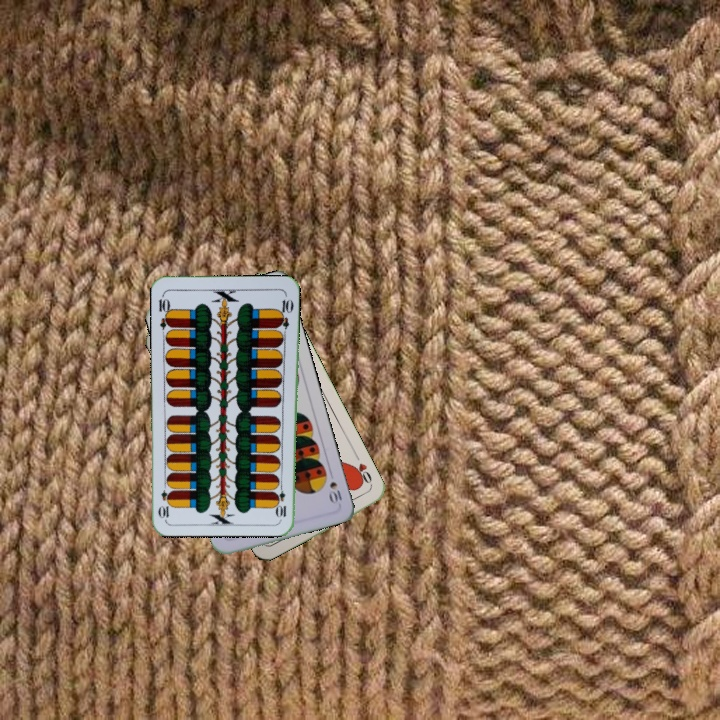E10: (155, 291, 174, 331), (275, 479, 289, 520)
HO: (347, 451, 375, 489)
S10: (325, 467, 345, 507)
